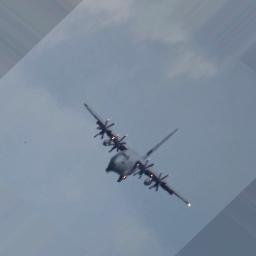Airplane: (82, 100, 192, 209)
